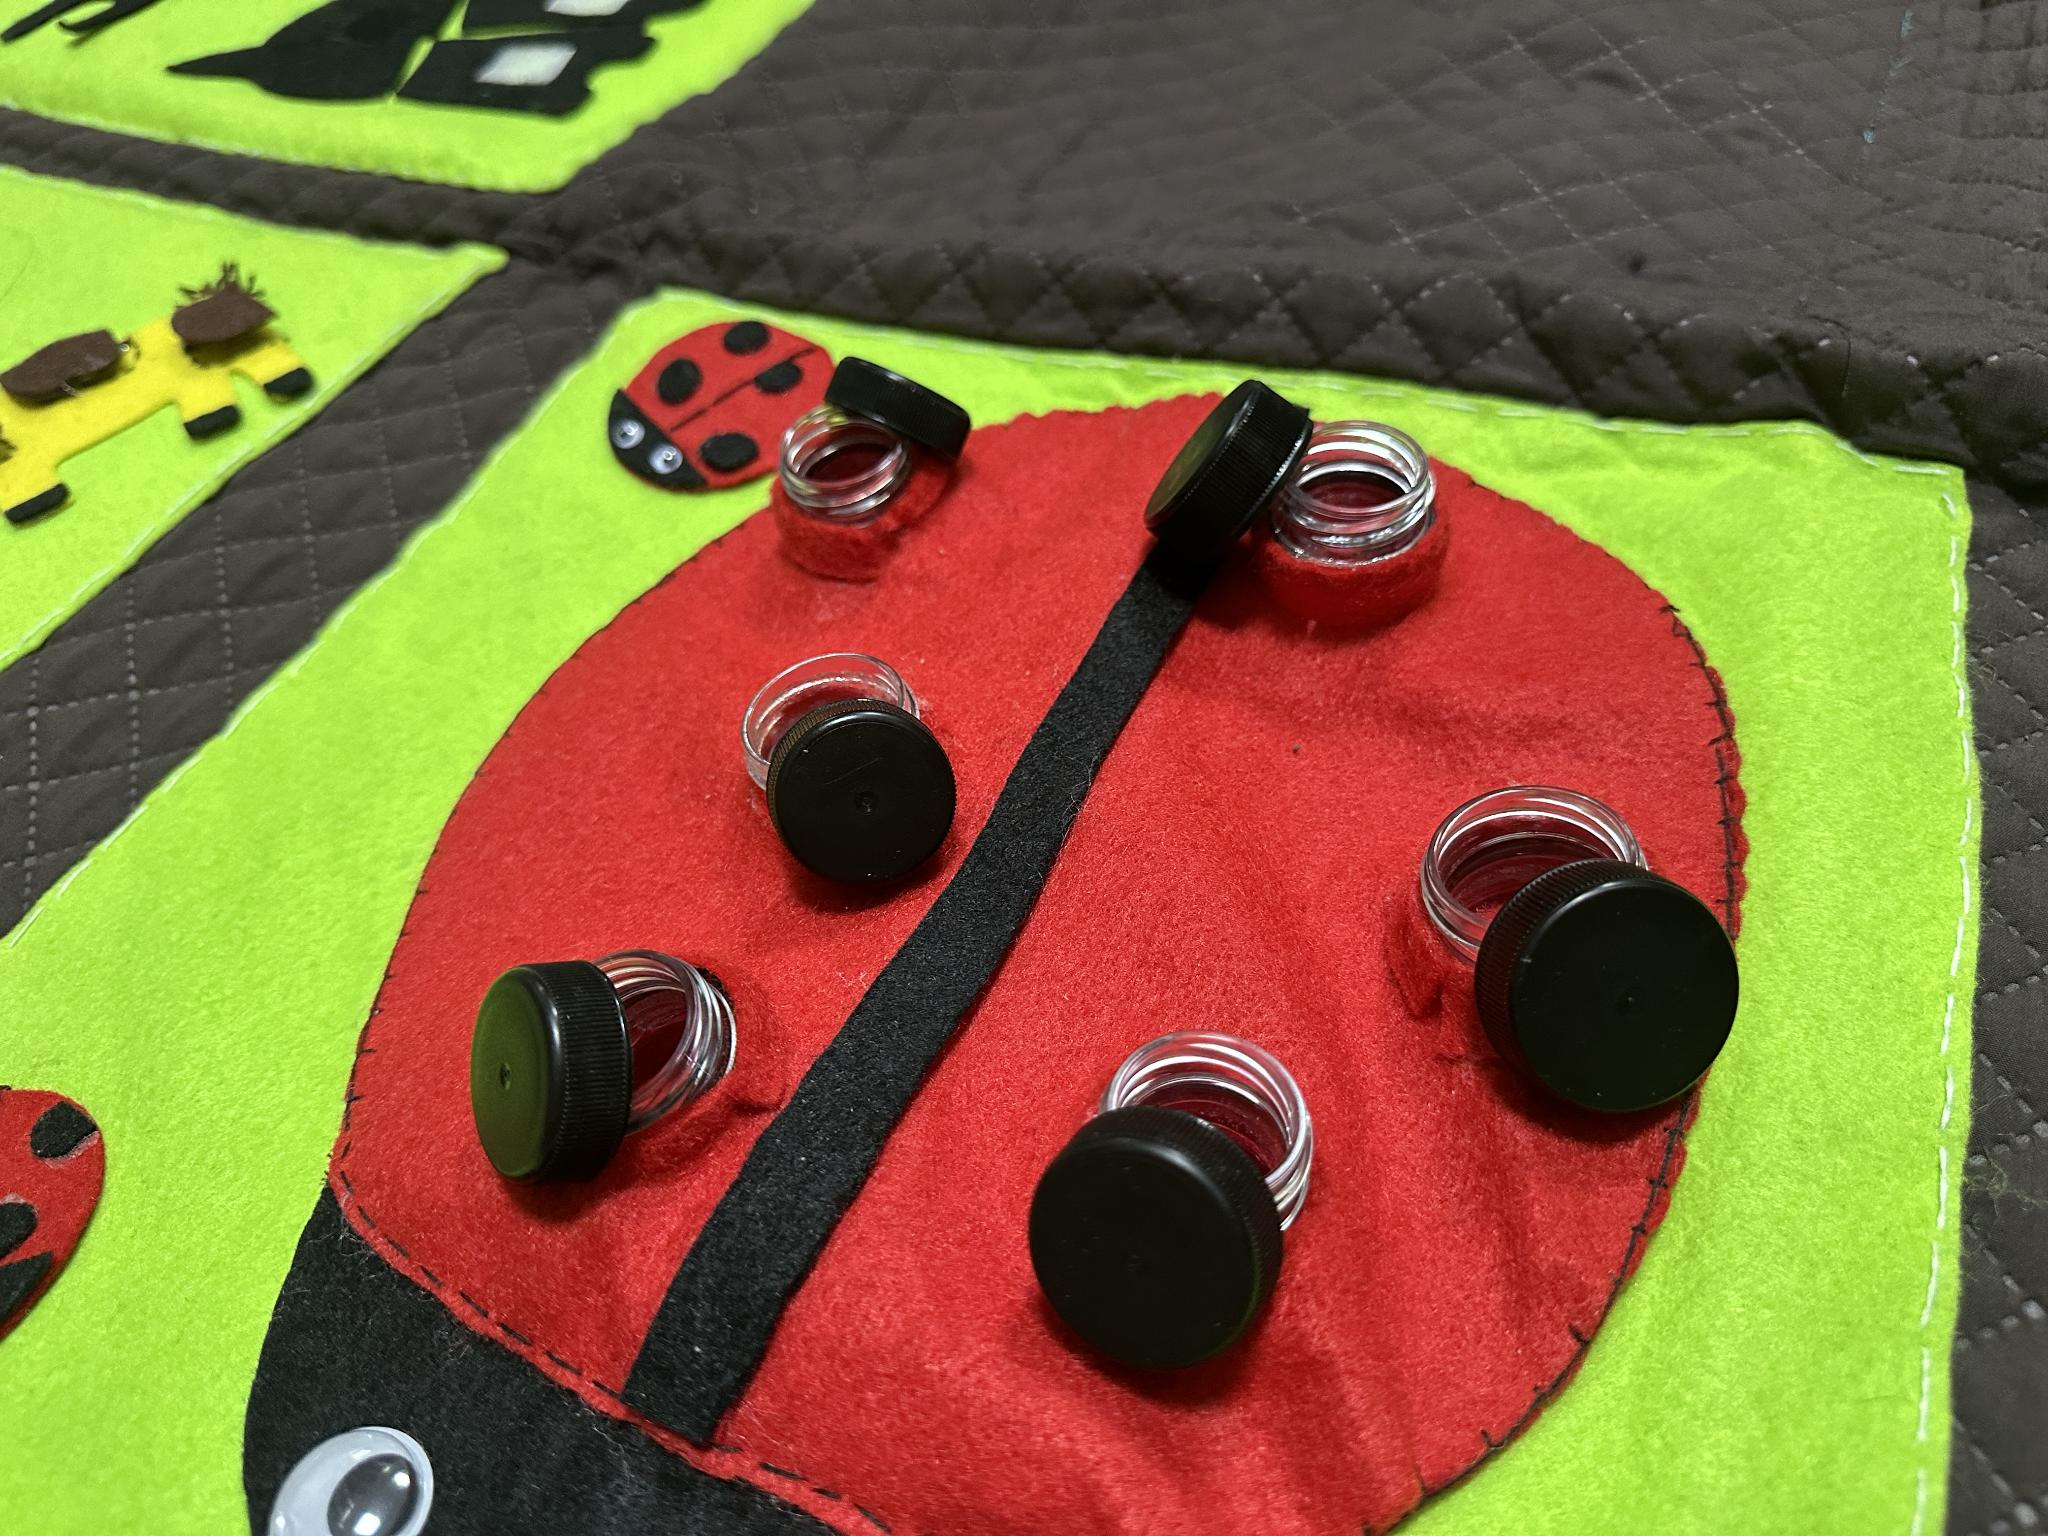cap_ng: (1006, 1007, 1351, 1397), (1409, 755, 1751, 1136), (1105, 357, 1488, 670), (439, 925, 768, 1207), (711, 634, 992, 910), (739, 340, 1003, 597)
